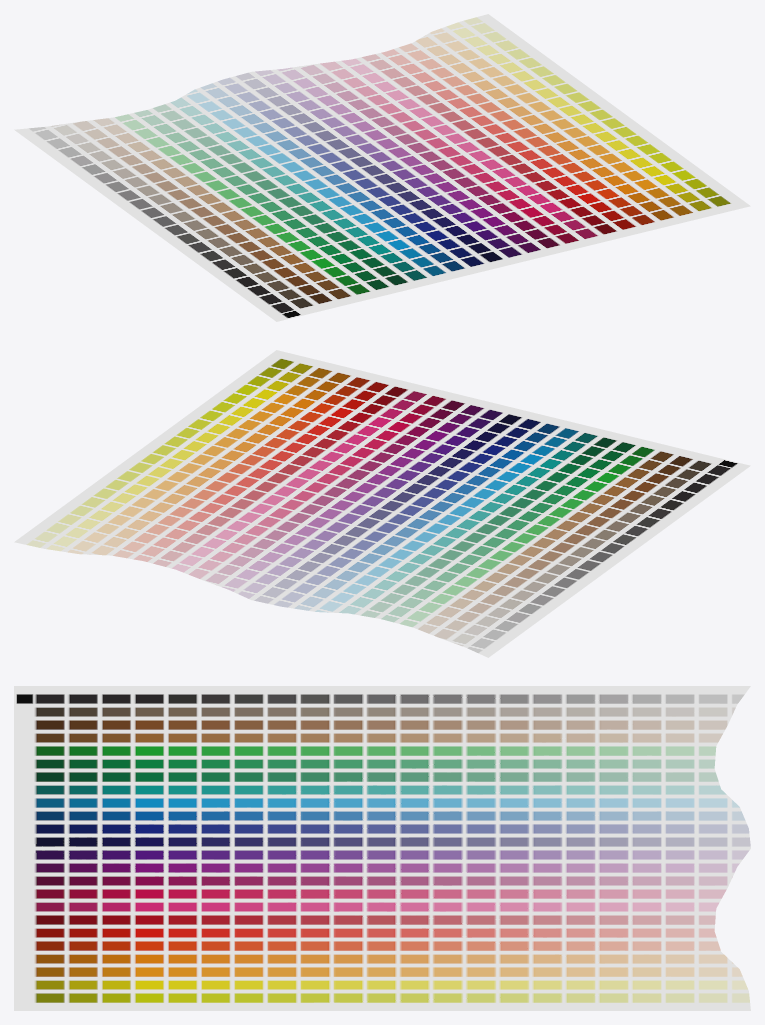
File: BG_ground_10M_River03.fbx
3 views of the same model, one above another, from view 1: azimuth 30°, elevation 25°; view 2: azimuth 150°, elevation 25°; view 3: azimuth 270°, elevation 25° (orthographic). The views are drawn at different scales.
Visible parts, largest first — view 1: BG_ground_Desert_mesh03; view 2: BG_ground_Desert_mesh03; view 3: BG_ground_Desert_mesh03.
Part boxes in pixels (left/top/right/bottom): BG_ground_Desert_mesh03: left=14, top=14, right=750, bottom=321; BG_ground_Desert_mesh03: left=14, top=350, right=750, bottom=657; BG_ground_Desert_mesh03: left=14, top=686, right=750, bottom=1010.
Bounding box in the file's own units: 100 × 5.87e-15 × 95.87.
